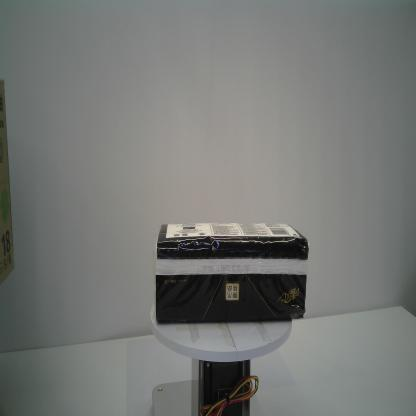Tissue: (153, 221, 311, 326)
